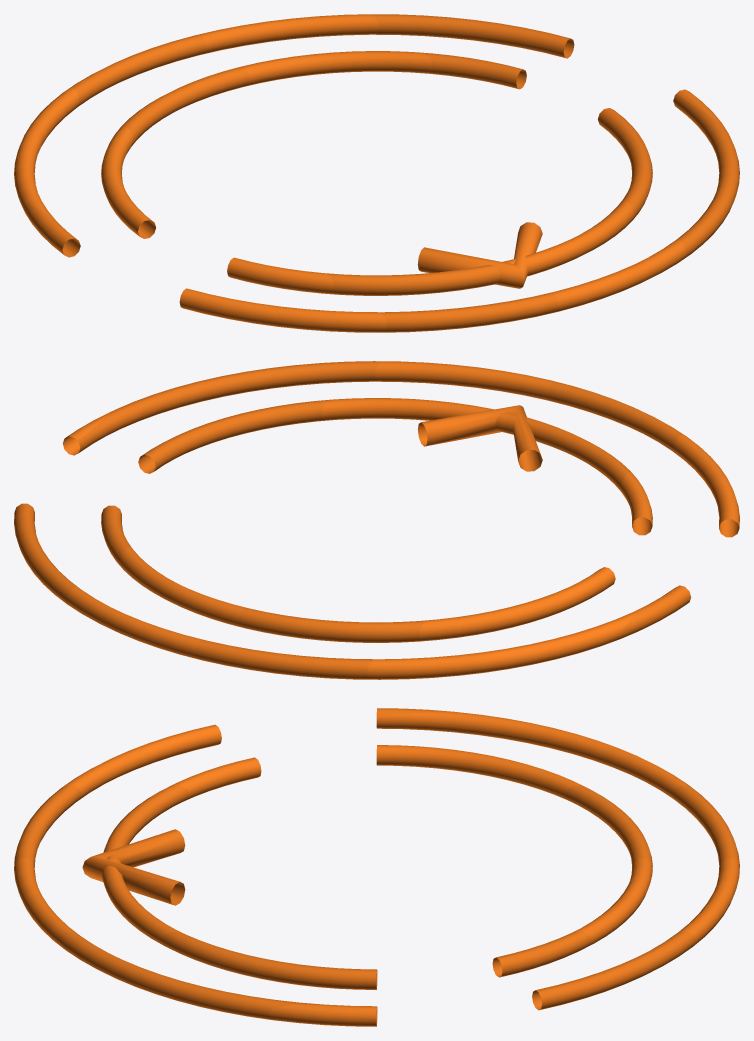
Rendered from sight_ring.gltf.
3 views of the same model, one above another, from view 1: azimuth 30°, elevation 25°; view 2: azimuth 150°, elevation 25°; view 3: azimuth 270°, elevation 25° (orthographic).
Visible parts, largest first — view 1: V14_sight_ring; view 2: V14_sight_ring; view 3: V14_sight_ring.
Part boxes in pixels (left/top/right/bottom): V14_sight_ring: left=14, top=14, right=739, bottom=332; V14_sight_ring: left=14, top=361, right=739, bottom=679; V14_sight_ring: left=14, top=708, right=739, bottom=1026.
Bounding box in the file's own units: 1.75 × 0.0571 × 1.75.
1 material, 1 textured.
